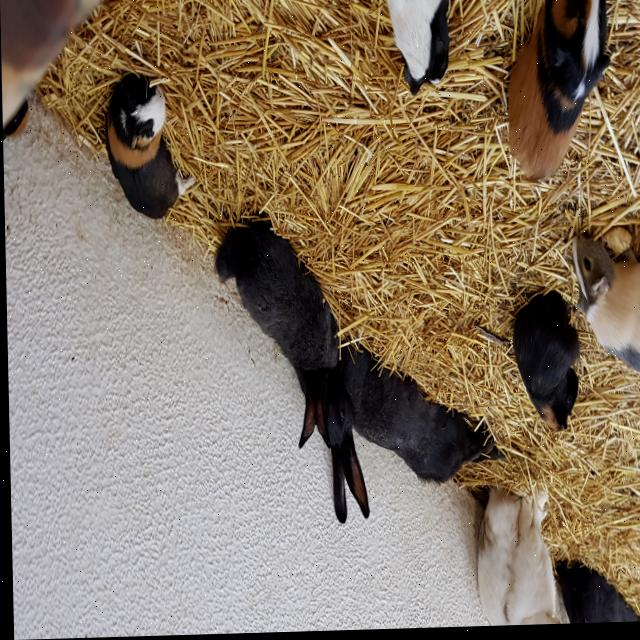guinea pig: (502, 0, 615, 191), (103, 71, 196, 223), (569, 234, 640, 385), (509, 289, 580, 438), (380, 0, 453, 112)
